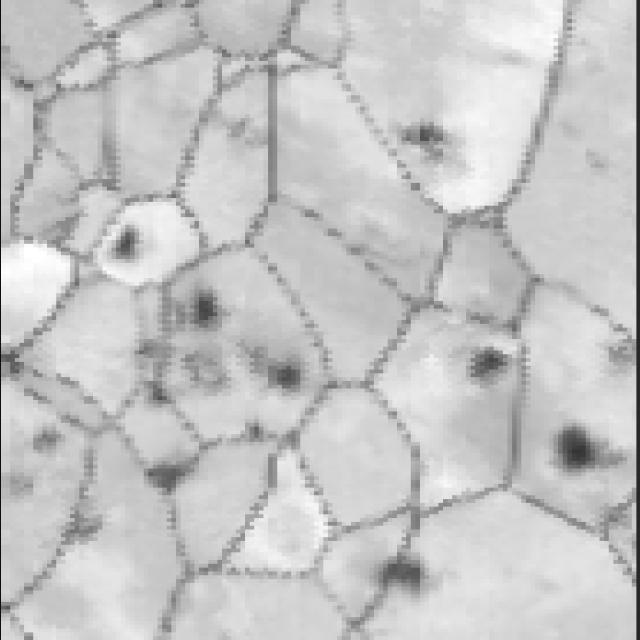good_void: (232, 339, 311, 400), (179, 347, 233, 396), (557, 419, 597, 472), (461, 344, 505, 391), (223, 109, 264, 157), (596, 330, 638, 374), (384, 552, 421, 600), (190, 288, 225, 326), (396, 125, 447, 151), (135, 338, 174, 365), (148, 466, 191, 488), (113, 224, 137, 259), (149, 383, 183, 407), (244, 420, 269, 442), (75, 523, 98, 544), (38, 431, 56, 447)
